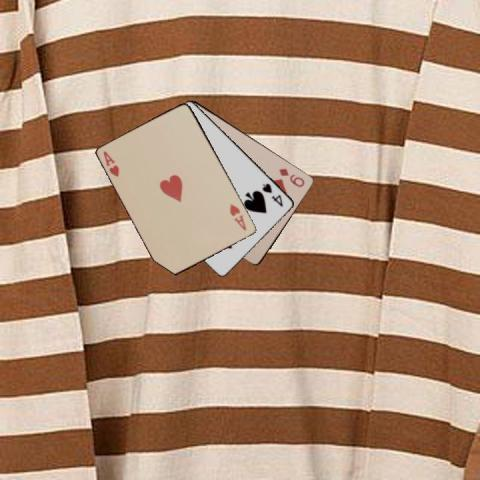4s: (259, 180, 285, 209)
9d: (276, 165, 307, 189)
Ah: (227, 201, 248, 232), (100, 148, 120, 179)
